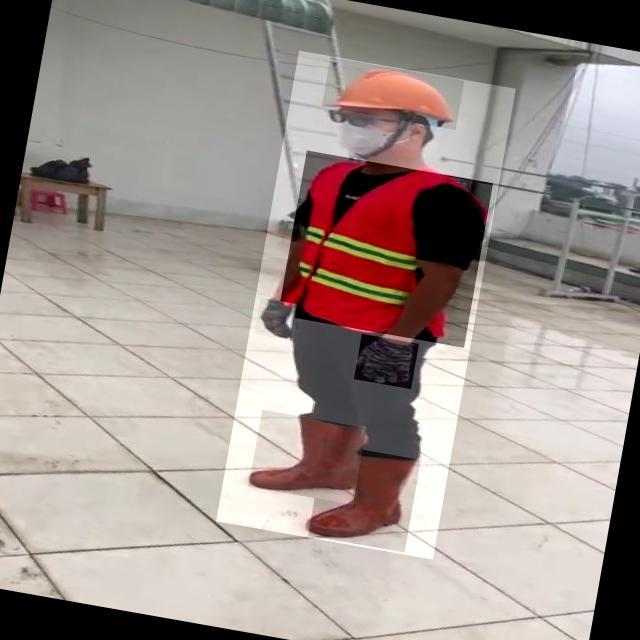Gloves: (354, 334, 419, 389), (254, 298, 298, 341)
Helmet: (322, 57, 464, 130)
Human: (216, 50, 516, 559)
Safety Boot: (308, 443, 421, 553), (248, 410, 366, 505)
Safety Vest: (278, 150, 493, 347)
